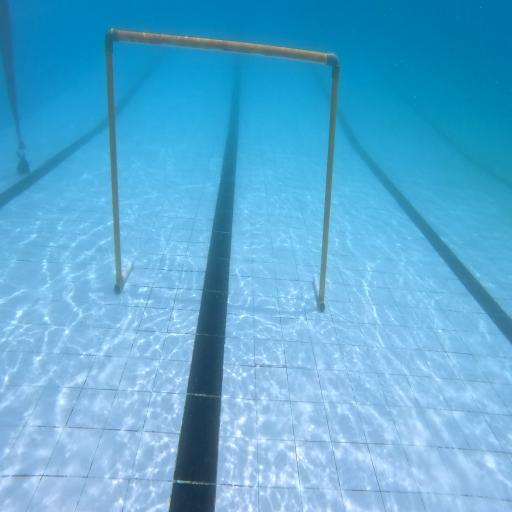gate: (105, 28, 339, 312)
